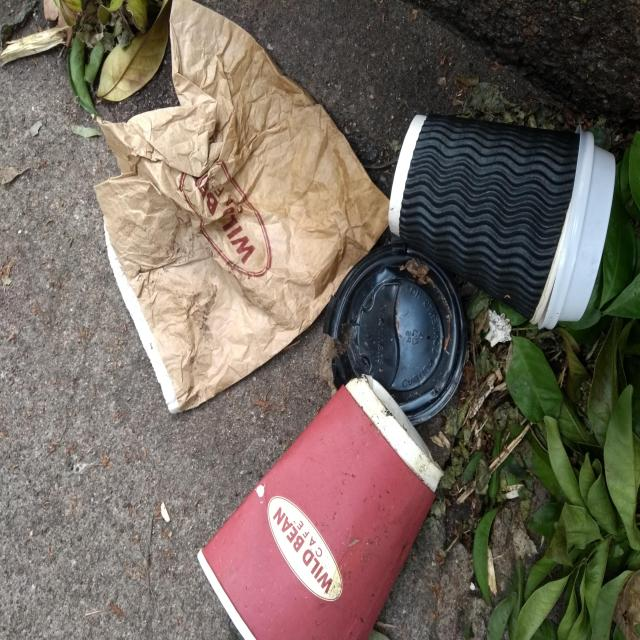litter: (86, 3, 391, 423), (191, 369, 452, 638), (383, 102, 629, 345)
